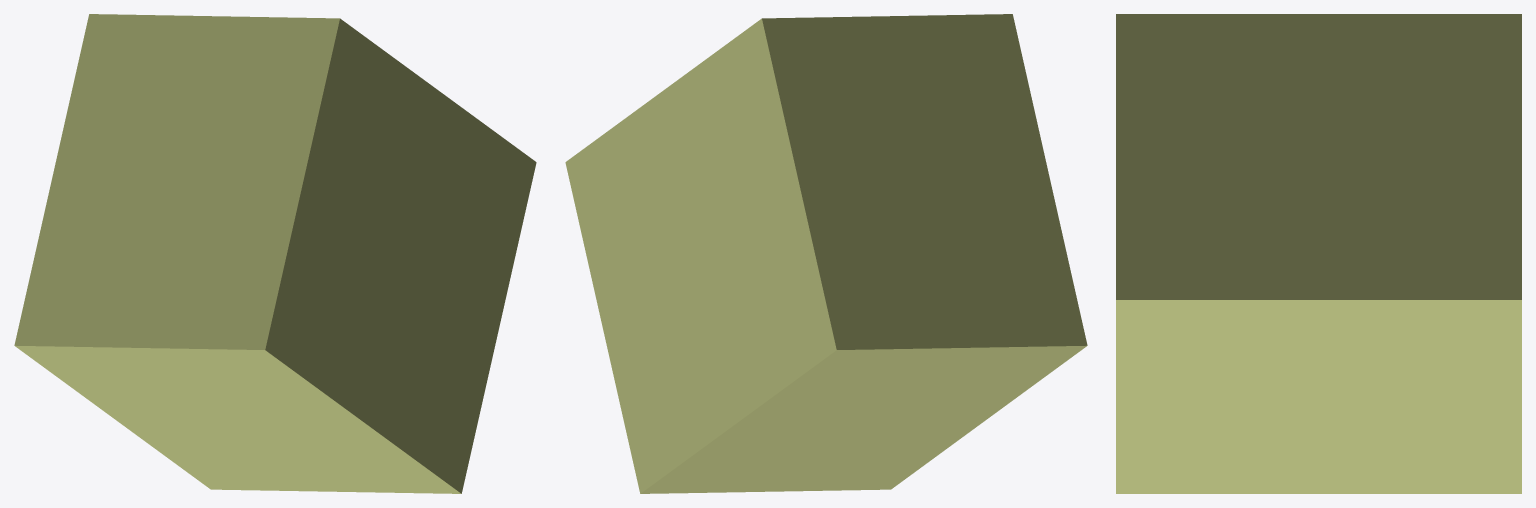
The picture shows the model from 3 angles, left to right: view 1: azimuth 30°, elevation 25°; view 2: azimuth 150°, elevation 25°; view 3: azimuth 270°, elevation 25°; orthographic projection. The views are drawn at different scales.
Visible parts, largest first — view 1: 0_1_0_2_0_0_0_1_0_0_3; view 2: 0_1_0_2_0_0_0_1_0_0_3; view 3: 0_1_0_2_0_0_0_1_0_0_3.
Part boxes in pixels (bbox=[...]): 0_1_0_2_0_0_0_1_0_0_3: bbox=[14, 14, 536, 493]; 0_1_0_2_0_0_0_1_0_0_3: bbox=[565, 14, 1087, 493]; 0_1_0_2_0_0_0_1_0_0_3: bbox=[1116, 14, 1521, 493].
Bounding box in the file's own units: 5.74 × 6.39 × 6.
